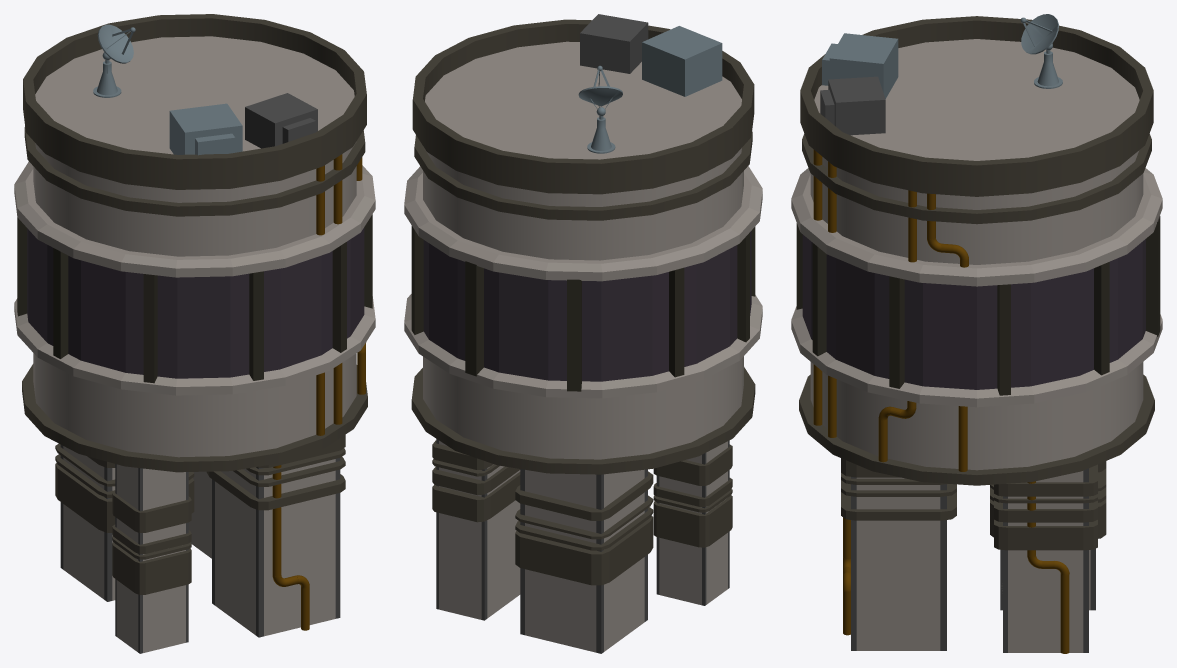
Rendered from 48_Building4 (1).fbx.
3 views of the same model, side by side, from view 1: azimuth 30°, elevation 25°; view 2: azimuth 150°, elevation 25°; view 3: azimuth 270°, elevation 25° (orthographic). The views are drawn at different scales.
Visible parts, largest first — view 1: pCylinder85, pCylinder86, pCube29, pCube32, pCube30, pCube33, pCube34, pCylinder87, pCylinder96, pCube31, pCylinder91, pCylinder88 (+1 smaller); view 2: pCylinder85, pCylinder86, pCube30, pCube31, pCube32, pCube33, pCube34, pCylinder87; view 3: pCylinder85, pCylinder86, pCube29, pCube31, pCube33, pCube34, pCylinder87, pCube30, pCylinder97, pCylinder96, pCylinder92, pCylinder94 (+5 smaller).
Part boxes in pixels (x1,y1,x2,y2): pCylinder85: [22, 14, 367, 472]; pCylinder86: [14, 161, 375, 395]; pCube29: [206, 434, 345, 637]; pCube32: [112, 464, 191, 653]; pCube30: [55, 443, 194, 601]; pCube33: [169, 103, 242, 155]; pCube34: [245, 93, 317, 148]; pCylinder87: [93, 24, 135, 97]; pCylinder96: [272, 465, 309, 630]; pCube31: [189, 471, 211, 558]; pCylinder91: [333, 363, 342, 424]; pCylinder88: [316, 372, 324, 435]; pCylinder85: [411, 19, 755, 474]; pCylinder86: [404, 166, 762, 398]; pCube30: [515, 469, 653, 653]; pCube31: [432, 439, 520, 620]; pCube32: [653, 440, 732, 605]; pCube33: [642, 26, 722, 96]; pCube34: [580, 14, 648, 73]; pCylinder87: [578, 65, 622, 153]; pCylinder85: [799, 16, 1154, 485]; pCylinder86: [791, 168, 1162, 407]; pCube29: [841, 458, 956, 650]; pCube31: [994, 464, 1097, 652]; pCube33: [822, 33, 898, 98]; pCube34: [820, 76, 885, 135]; pCylinder87: [1020, 14, 1062, 88]; pCube30: [990, 461, 1106, 610]; pCylinder97: [1027, 481, 1069, 653]; pCylinder96: [843, 517, 850, 635]; pCylinder92: [878, 401, 916, 462]; pCylinder94: [927, 193, 968, 267].
Bounding box in the file's own units: 5.31 × 9.05 × 5.31.
